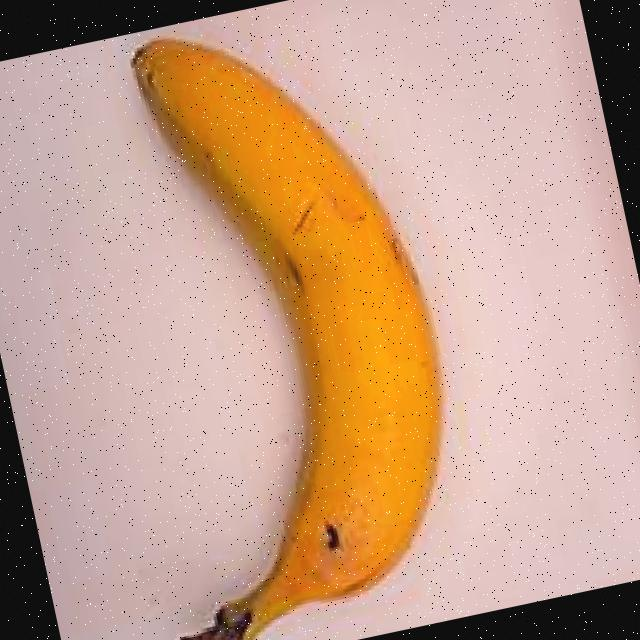Ripe: (6, 0, 524, 640)
